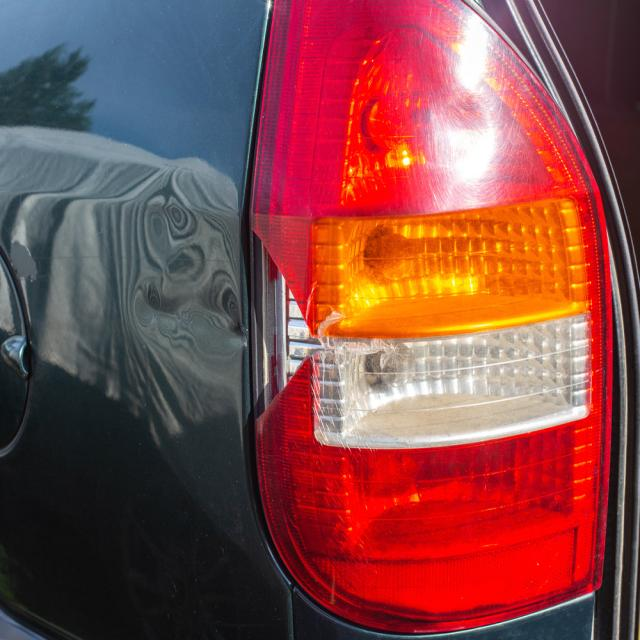Phare abime: (242, 223, 327, 451)
